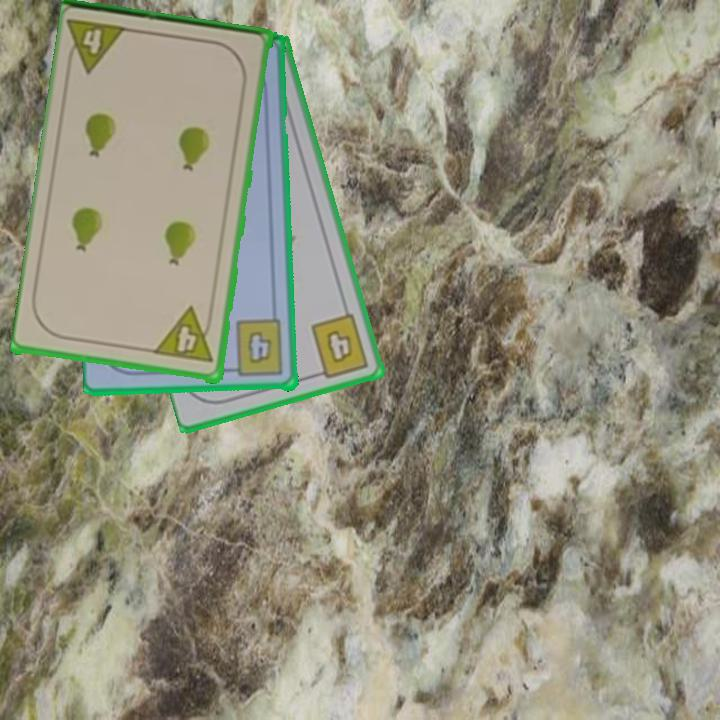4b: (307, 310, 372, 381), (224, 317, 286, 380)
4p: (62, 15, 132, 77), (152, 305, 217, 367)
